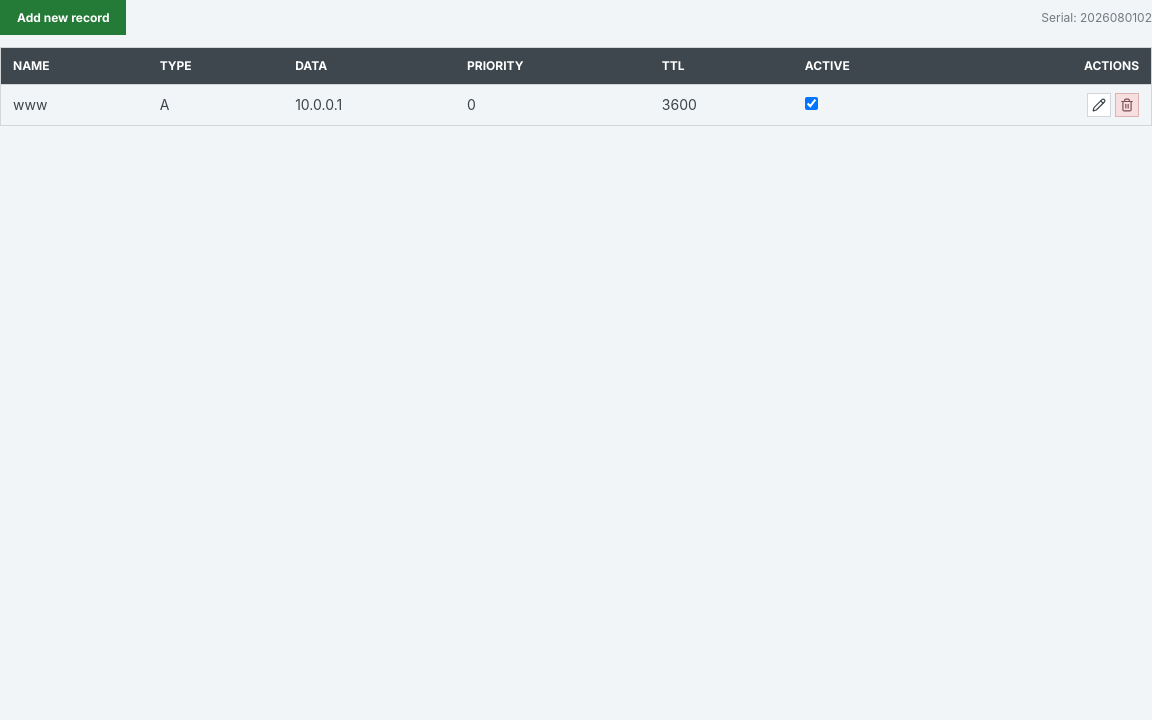
Test: RecordGrid › shows the priority input only for aux types
Click the button with test id "add-record" at (63, 18), box [0, 0, 126, 35]
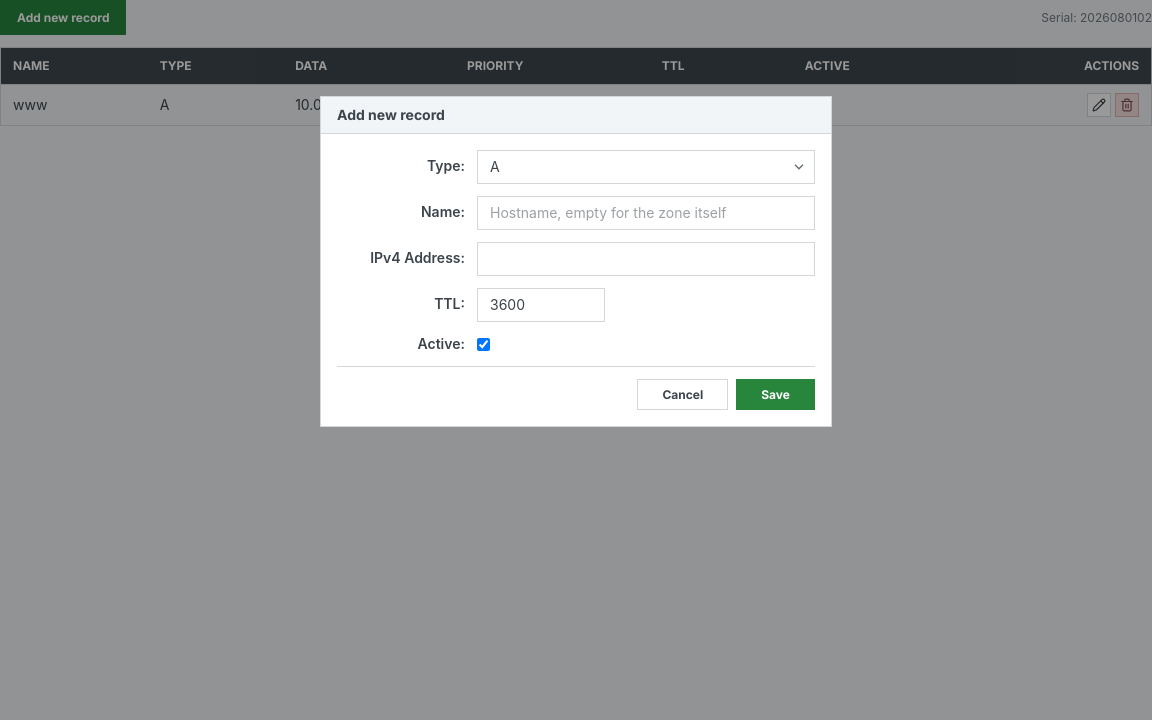
Select "MX" in the dropdown with id "rr-type" at (646, 167), box [477, 150, 815, 184]
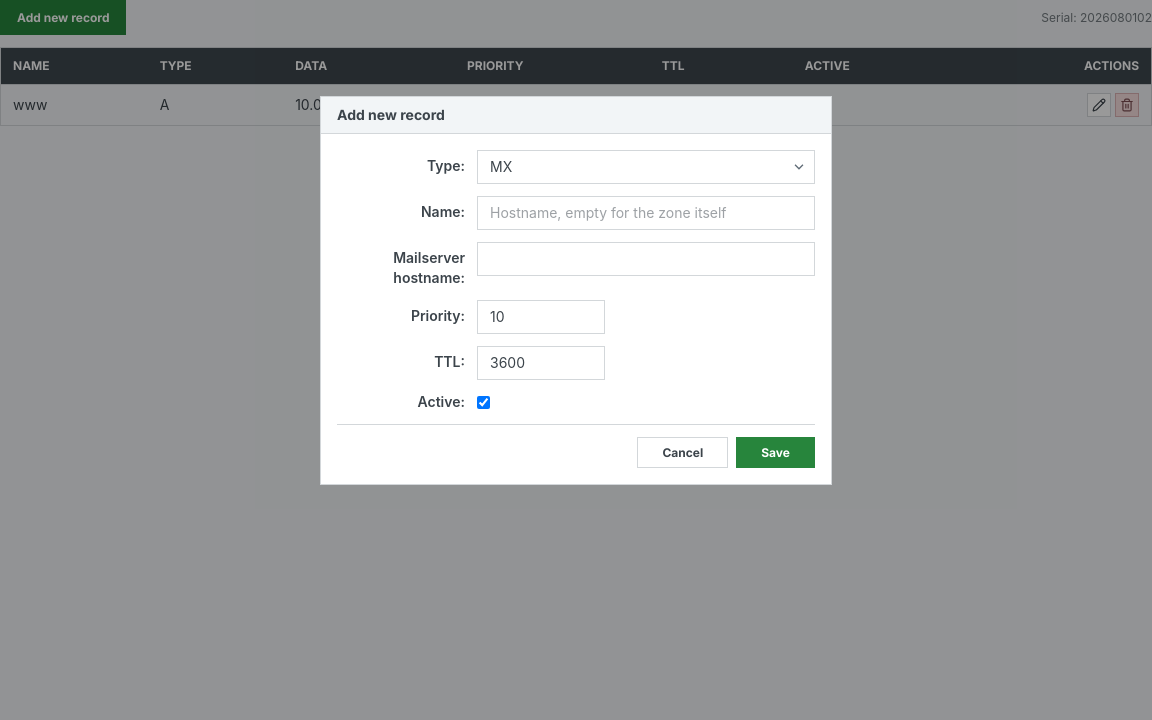
Check: the number field with id "rr-aux" holds "10", box [477, 300, 605, 334]
